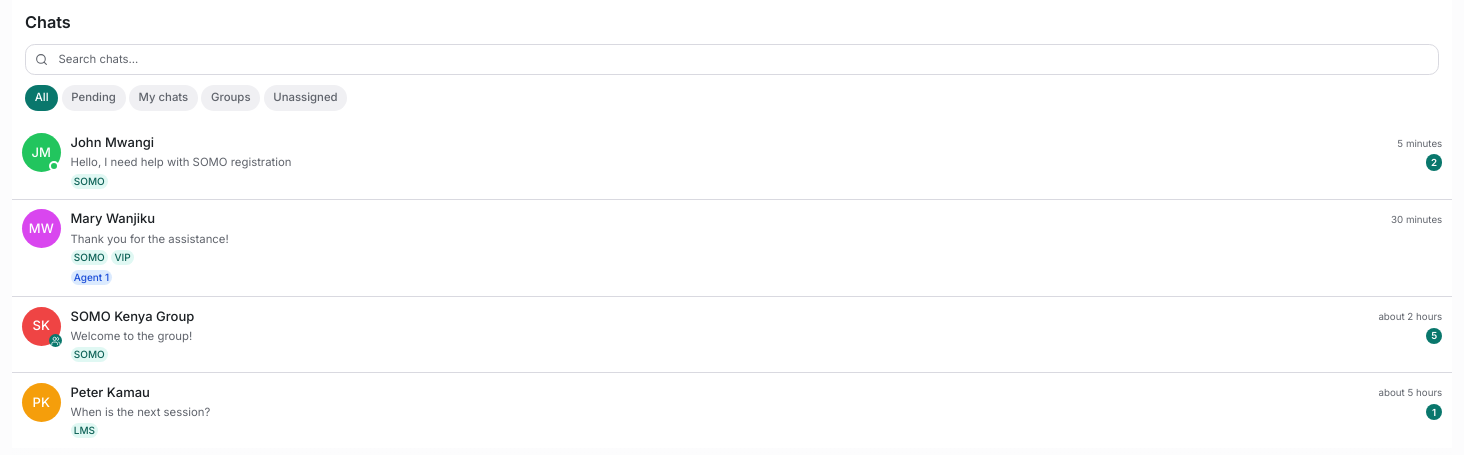
ChatList › filtering › filters by "My chats" (assigned to Agent 1)
The image size is (1464, 455).
Expected: the text "John Mwangi" is shown, [70, 133, 154, 153]
Step 1. Click the button "My chats" → [163, 98], box [129, 84, 198, 110]
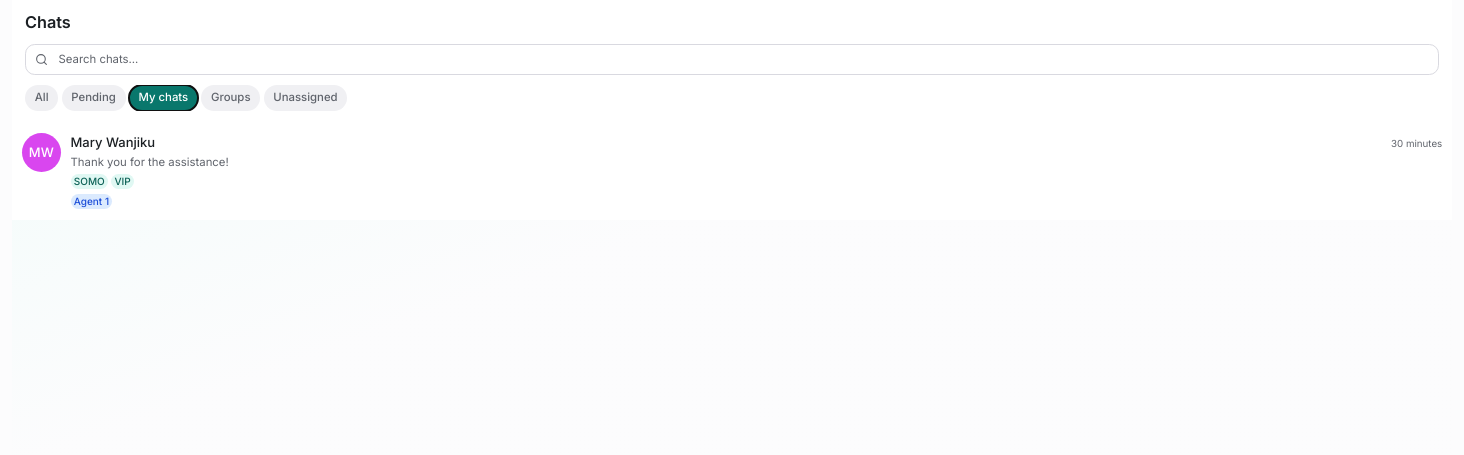
Expected: the text "Mary Wanjiku" is shown, [70, 133, 155, 153]
Now the button "John Mwangi" is gone
Now the button "Peter Kamau" is gone
